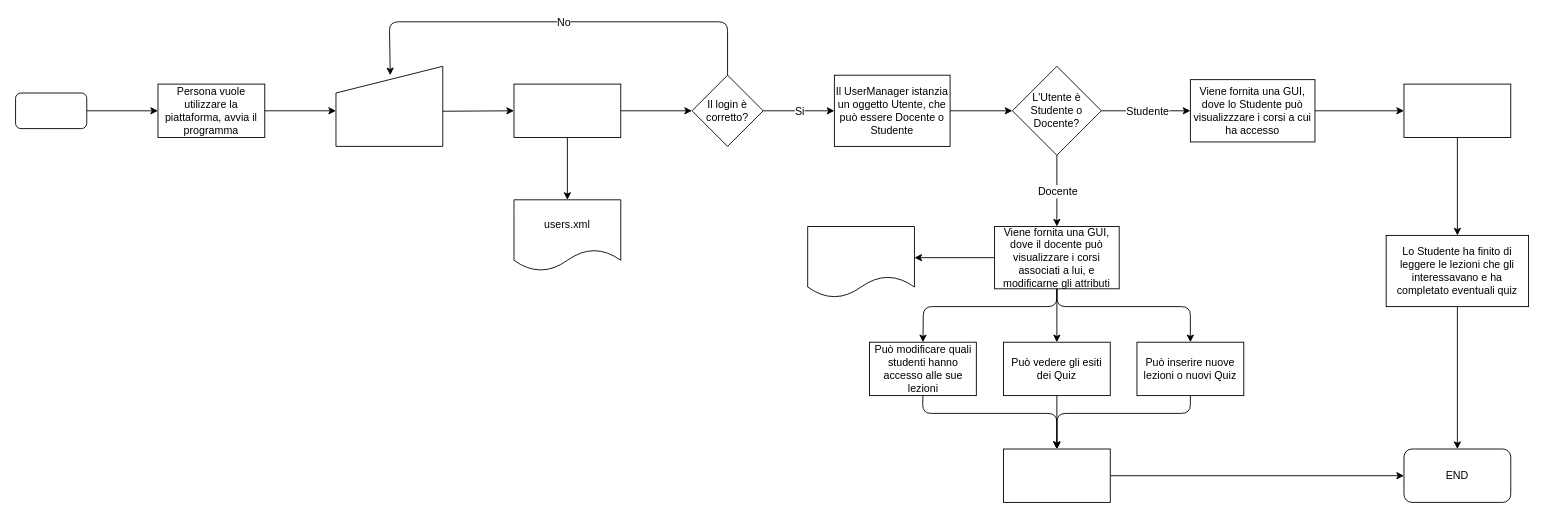
This 1544x518 diagram has some shape labels left out. Here are the shapes that lost their labels. From the top down, the centre of each, then its label:
At (x=51, y=110): "Start".
At (x=389, y=105): "Persona inserisce i propri dati".
At (x=567, y=110): "Il UserManager verifica che il login è corretto".
At (x=1457, y=110): "Lo Studente può leggere delle lezioni, o completare dei quiz".
At (x=860, y=262): "config.json".
At (x=1056, y=475): "Il Docente ha finito le task che doveva svolgere".
